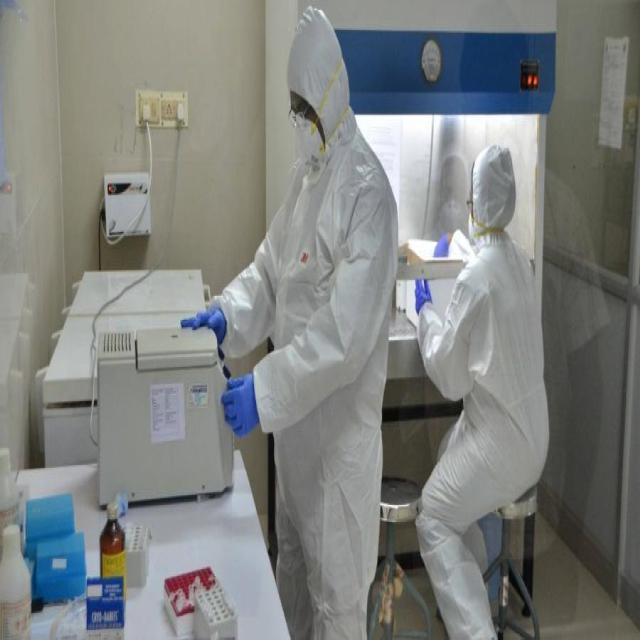Coverall: (218, 3, 396, 637), (415, 143, 550, 635)
Gloves: (220, 367, 259, 435), (179, 303, 225, 348), (413, 278, 433, 308)
Mask: (291, 119, 324, 178), (467, 215, 482, 247)
